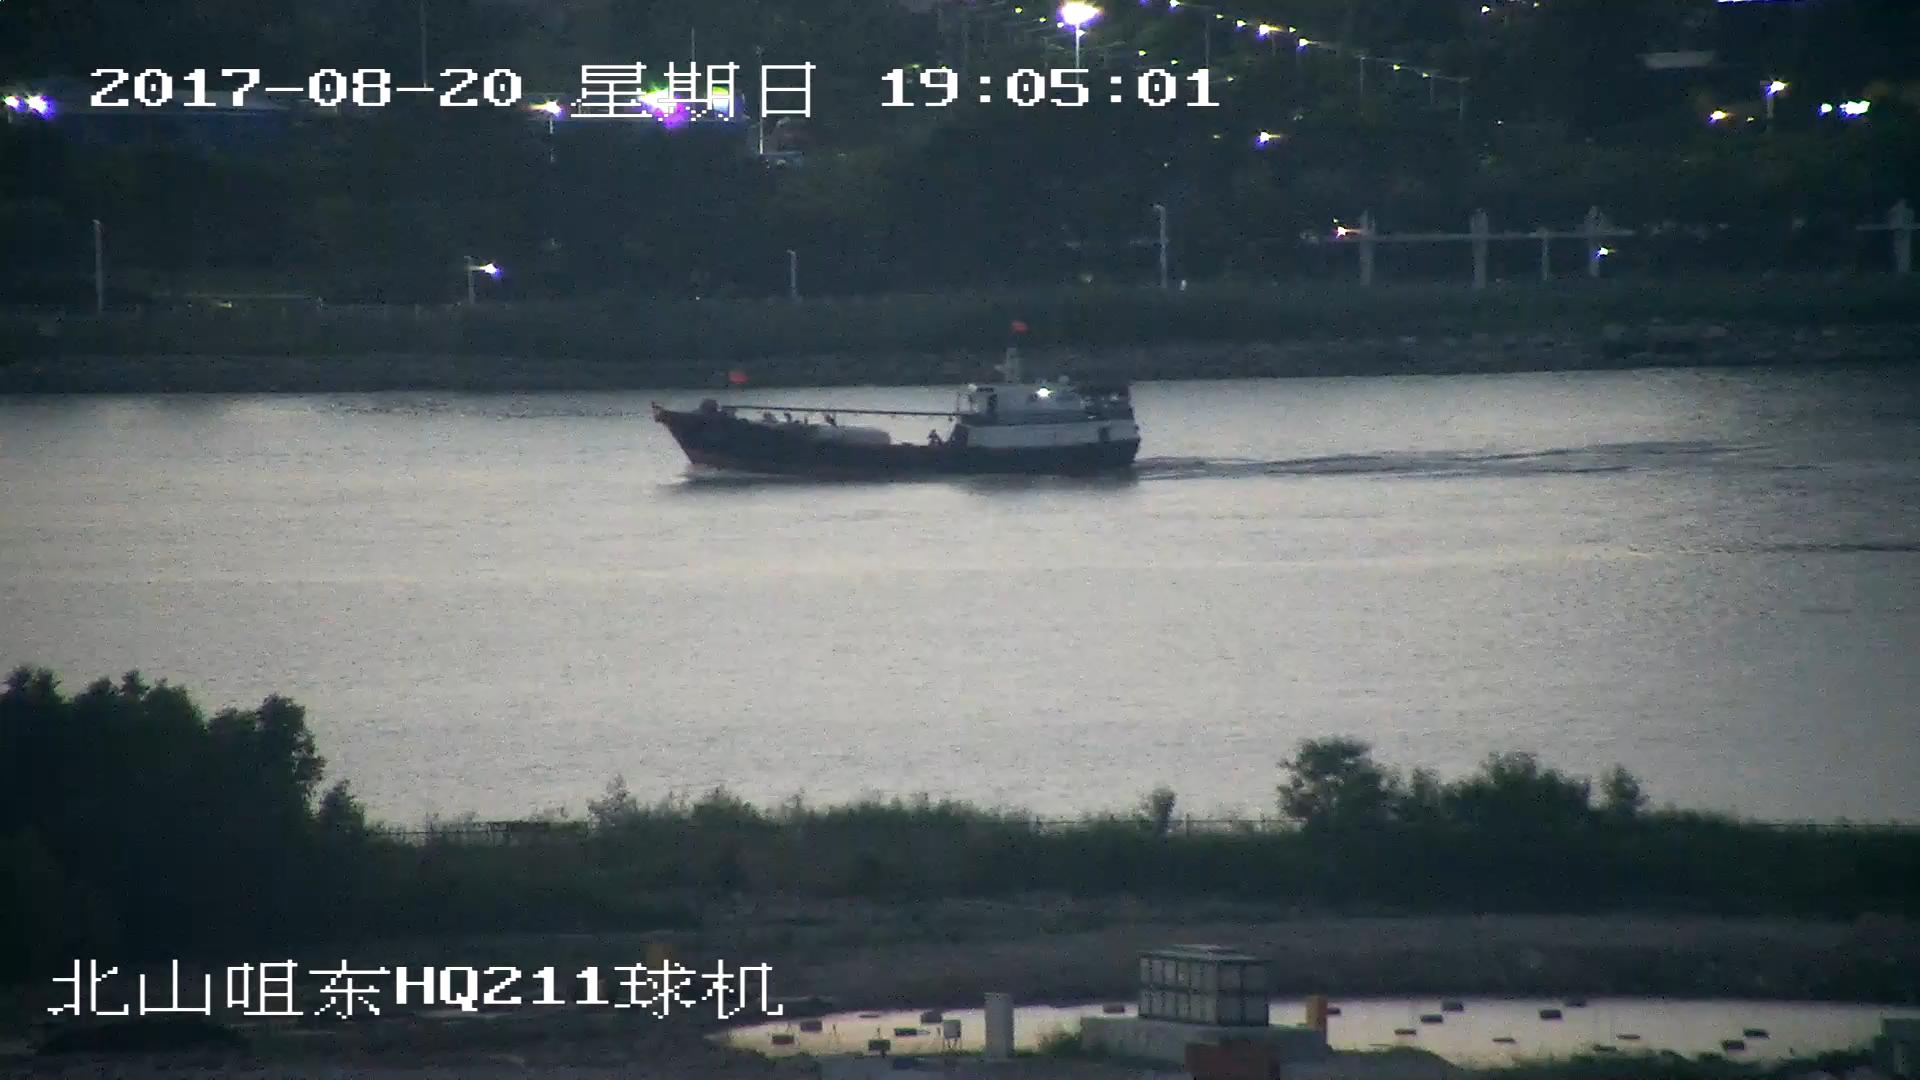fishing boat: (655, 348, 1142, 478)
